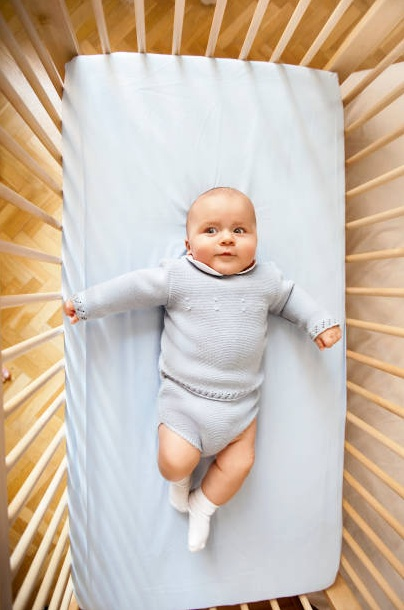baby: (64, 187, 340, 550)
crib: (0, 0, 403, 609)
